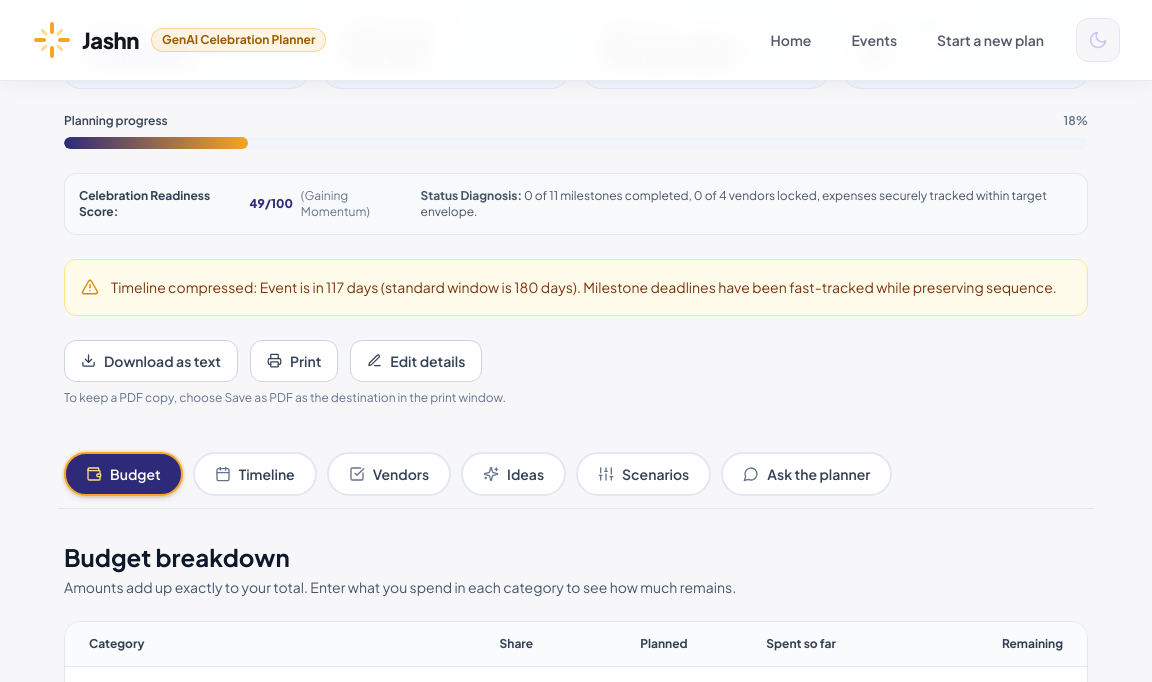
Scenario: SamplePlanPage Integration › allows user to edit sample plan details in-place without redirecting to /plan
(page scrolled)
# Click Edit details button
Click the button "Edit details" at (416, 361), box [350,340,482,382]
(page scrolled)
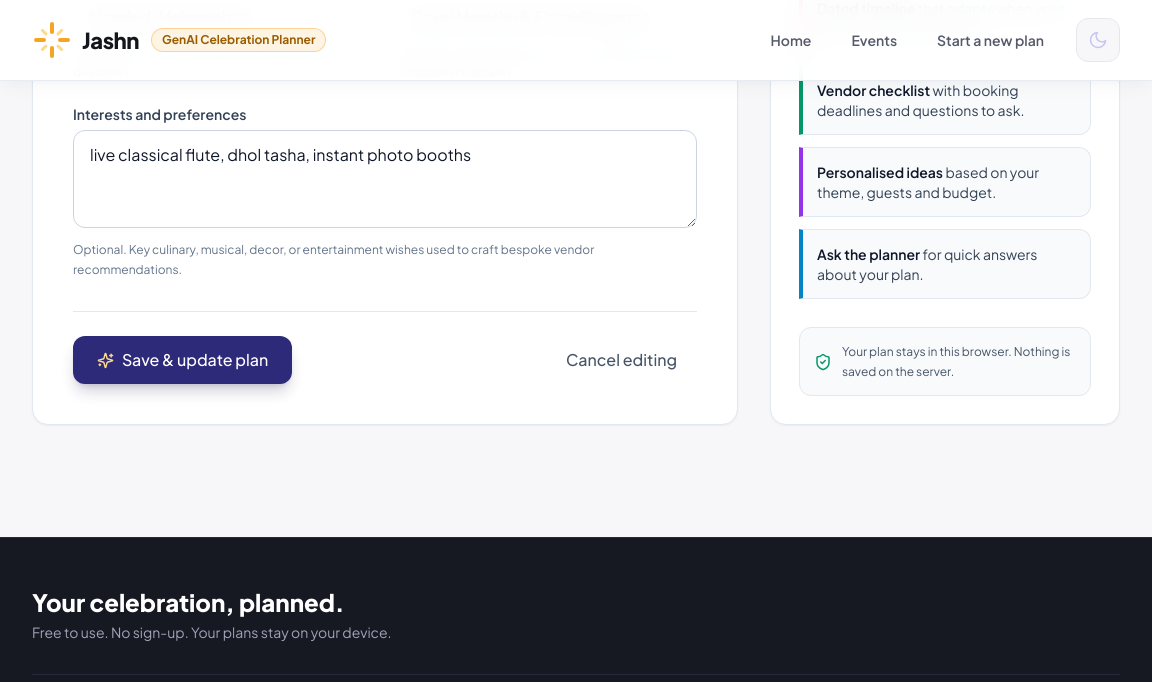
# Cancel editing returns cleanly to plan results view
Click the button "Cancel editing" at (621, 360), box [546,336,697,384]
(page scrolled)
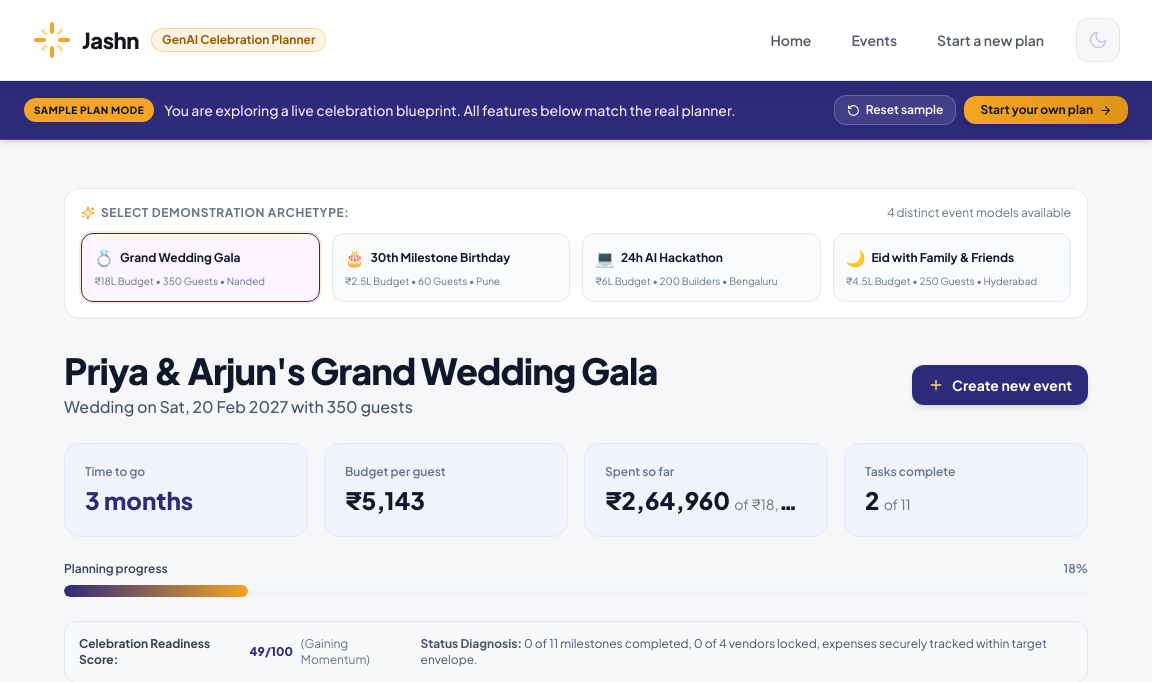
Expected: the heading "Priya & Arjun's Grand Wedding Gala" is shown, [64,351,658,391]
